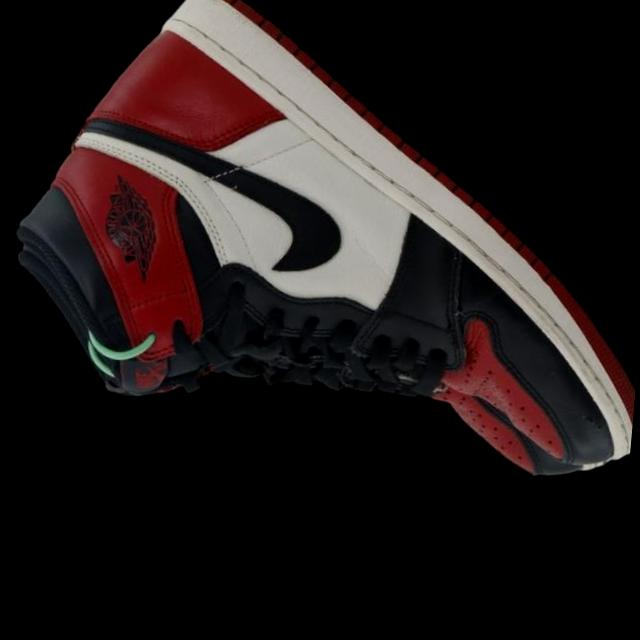nike_original_jordan: (0, 0, 640, 640), (0, 78, 606, 640)
